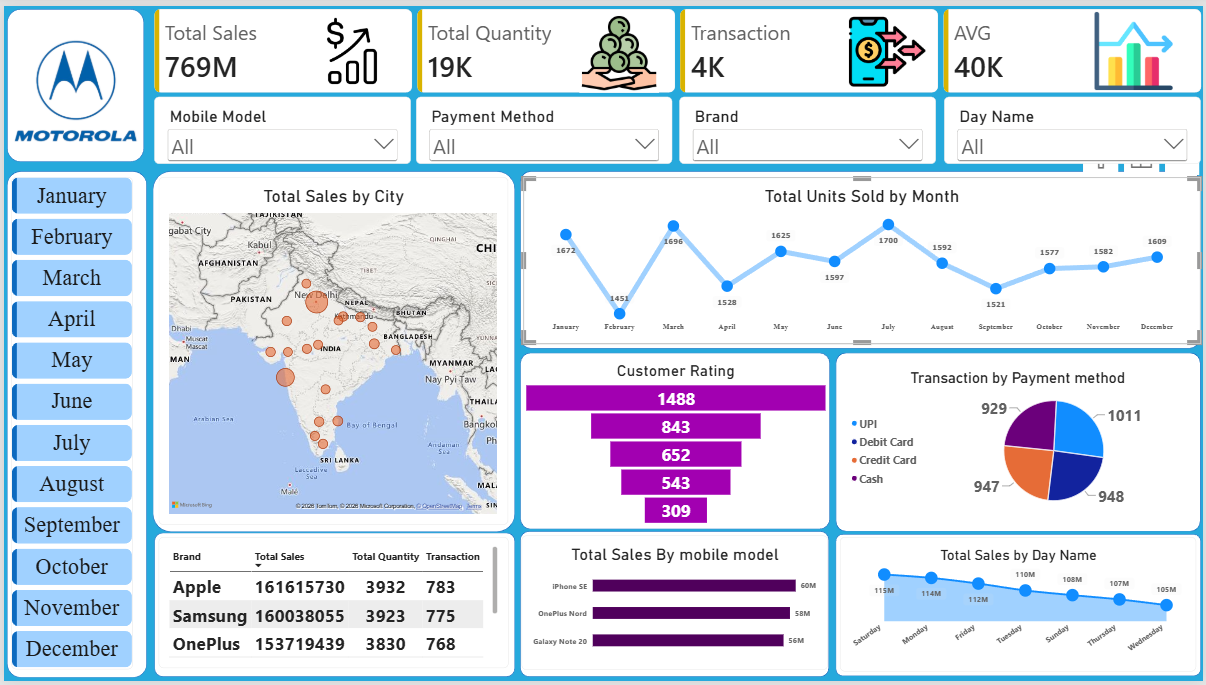

Layout of this report page (visuals, bound fields, positions):
{"tool":"powerbi","page":{"name":"Dashboard","canvas":[1920,1080],"ordinal":0},"visuals":[{"type":"shape","box":[4.6,4.6,219.5,244.9],"z":0},{"type":"shape","box":[4.6,263.4,224.1,811],"z":1000},{"type":"advancedSlicerVisual","fields":{"Values":["Mobile Sales Data.Date.Variation.Date Hierarchy.Month"]},"box":[11.6,275,194.1,787.9],"z":2000},{"type":"image","box":[13.9,32.3,201,205.6],"z":3000},{"type":"cardVisual","fields":{"Data":["Mobile Sales Data.Total Sales","Mobile Sales Data.Total Quantity","Mobile Sales Data.Transaction","Mobile Sales Data.AVG"]},"box":[240.3,4.6,1679.8,134],"z":4000},{"type":"image","box":[376.6,18.5,360.5,113.2],"z":5000},{"type":"image","box":[831.8,11.6,307.3,127.1],"z":6000},{"type":"image","box":[1273.2,11.6,279.6,122.5],"z":7000},{"type":"image","box":[1716.8,9.2,182.5,124.8],"z":8000},{"type":"shape","box":[238,263.4,580,577.7],"z":9000},{"type":"shape","box":[827.2,263.4,1088.3,284.2],"z":10000},{"type":"lineChart","title":"Total Units Sold by Month","fields":{"Y":["Sum(Mobile Sales Data.Units Sold)"],"Category":["Mobile Sales Data.Date.Variation.Date Hierarchy.Month"]},"box":[831.8,272.7,1083.7,268],"z":11000},{"type":"shape","box":[827,554.5,496,283],"z":12000},{"type":"funnel","title":"Customer Rating","fields":{"Category":["Mobile Sales Data.Customer Ratings"],"Y":["CountNonNull(Mobile Sales Data.Customer Ratings)"]},"box":[831,570,489,263],"z":13000},{"type":"shape","box":[1330.9,554.5,584.6,286.5],"z":14000},{"type":"pieChart","title":"Transaction by Payment method","fields":{"Category":["Mobile Sales Data.Payment Method"],"Y":["Mobile Sales Data.Transaction"]},"box":[1337,567,569,265],"z":15000},{"type":"shape","box":[240.3,843.4,577.7,231.1],"z":16000},{"type":"shape","box":[827.2,841.1,494.5,233.4],"z":17000},{"type":"clusteredBarChart","title":"Total Sales By mobile model","fields":{"Category":["Mobile Sales Data.Mobile Model"],"Y":["Mobile Sales Data.Total Sales"]},"box":[829.5,848,489.9,214.9],"z":18000},{"type":"tableEx","fields":{"Values":["Mobile Sales Data.Brand","Mobile Sales Data.Total Sales","Mobile Sales Data.Total Quantity","Mobile Sales Data.Transaction"]},"box":[247.5,850,560,210],"z":19000},{"type":"shape","box":[1330,845,585,227.5],"z":20000},{"type":"areaChart","title":"Total Sales by Day Name","fields":{"Category":["Mobile Sales Data.Day Name"],"Y":["Mobile Sales Data.Total Sales"]},"box":[1337.5,850,570,215],"z":21000},{"type":"slicer","fields":{"Values":["Mobile Sales Data.Mobile Model"]},"box":[240,145,411,107.5],"z":22000},{"type":"slicer","fields":{"Values":["Mobile Sales Data.Payment Method"]},"box":[660,145,410,107.5],"z":23000},{"type":"slicer","fields":{"Values":["Mobile Sales Data.Brand"]},"box":[1080,145,411,107.5],"z":24000},{"type":"slicer","fields":{"Values":["Mobile Sales Data.Day Name"]},"box":[1505,145,411,107.5],"z":25000},{"type":"map","fields":{"Category":["Mobile Sales Data.City"],"Size":["Mobile Sales Data.Total Sales"]},"box":[247.2,275,559.2,556.9],"z":26000}]}

Visuals, with their boxes in screenshot pixels (x1, y1, x2, y2), scaled from the page's 1920x1080 canvas onto the 1206x685 screenshot:
shape: rect(3, 3, 141, 158)
shape: rect(3, 167, 144, 681)
advancedSlicerVisual - Mobile Sales Data.Date.Variation.Date Hierarchy.Month: rect(7, 174, 129, 674)
image: rect(9, 20, 135, 151)
cardVisual - Mobile Sales Data.Total Sales x Mobile Sales Data.Total Quantity: rect(151, 3, 1205, 88)
image: rect(237, 12, 463, 84)
image: rect(522, 7, 715, 88)
image: rect(800, 7, 975, 85)
image: rect(1078, 6, 1193, 85)
shape: rect(149, 167, 514, 533)
shape: rect(520, 167, 1203, 347)
"Total Units Sold by Month" lineChart: rect(522, 173, 1203, 343)
shape: rect(519, 352, 831, 531)
"Customer Rating" funnel: rect(522, 362, 829, 528)
shape: rect(836, 352, 1203, 533)
"Transaction by Payment method" pieChart: rect(840, 360, 1197, 528)
shape: rect(151, 535, 514, 682)
shape: rect(520, 533, 830, 682)
"Total Sales By mobile model" clusteredBarChart: rect(521, 538, 829, 674)
tableEx - Mobile Sales Data.Brand x Mobile Sales Data.Total Sales: rect(155, 539, 507, 672)
shape: rect(835, 536, 1203, 680)
"Total Sales by Day Name" areaChart: rect(840, 539, 1198, 675)
slicer - Mobile Sales Data.Mobile Model: rect(151, 92, 409, 160)
slicer - Mobile Sales Data.Payment Method: rect(415, 92, 672, 160)
slicer - Mobile Sales Data.Brand: rect(678, 92, 937, 160)
slicer - Mobile Sales Data.Day Name: rect(945, 92, 1203, 160)
map - Mobile Sales Data.City x Mobile Sales Data.Total Sales: rect(155, 174, 507, 528)
